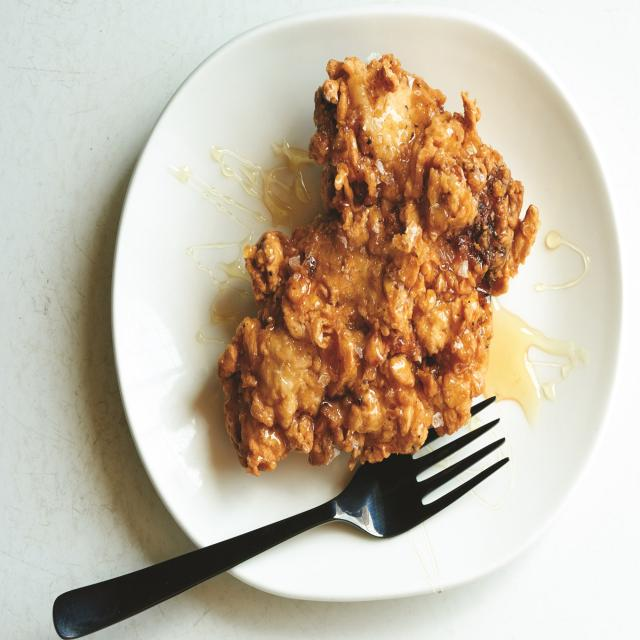Frango: (217, 42, 537, 474)
